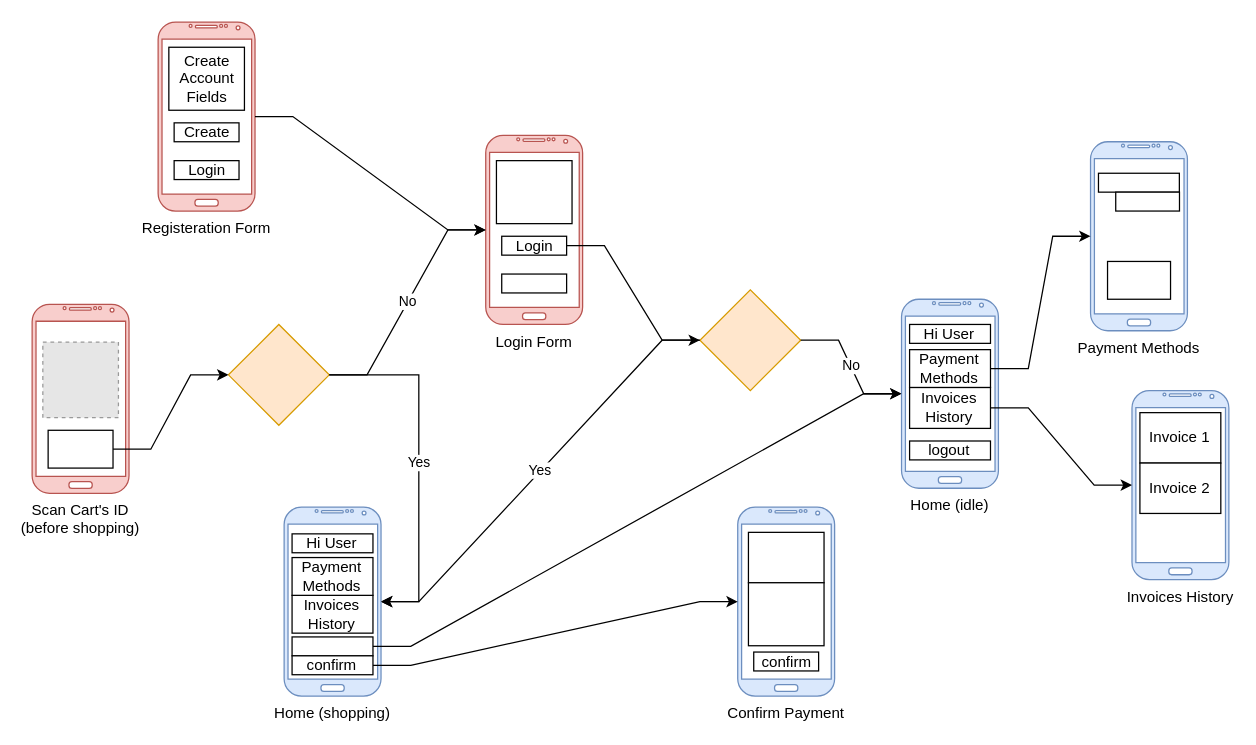
Image size: 1256x745. Some labels were removed from this diagram. Grey dashed boxes stand in for pictures. The centre of each missing label's shape, as x and y in pixels:
"add method" belongs at (1138,279).
"Came from scanning?" belongs at (750,340).
"Go to link" belongs at (80,448).
"Invoice Summary" belongs at (785,557).
"leave cart" belongs at (332,646).
"Loged in?" belongs at (278,374).
"Login Fields" belongs at (533,191).
"Method 1" belongs at (1138,182).
"Payment Method Summary" belongs at (785,613).
"Register" belongs at (533,283).
"remove" belongs at (1146,201).
